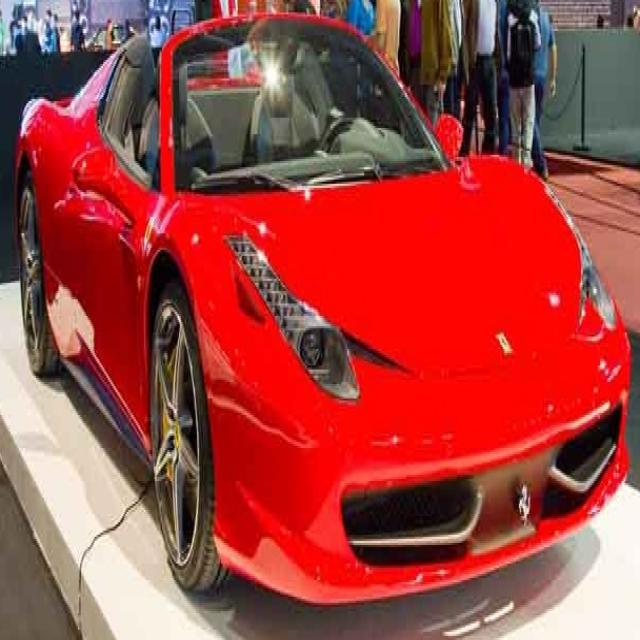red: (22, 10, 630, 600)
